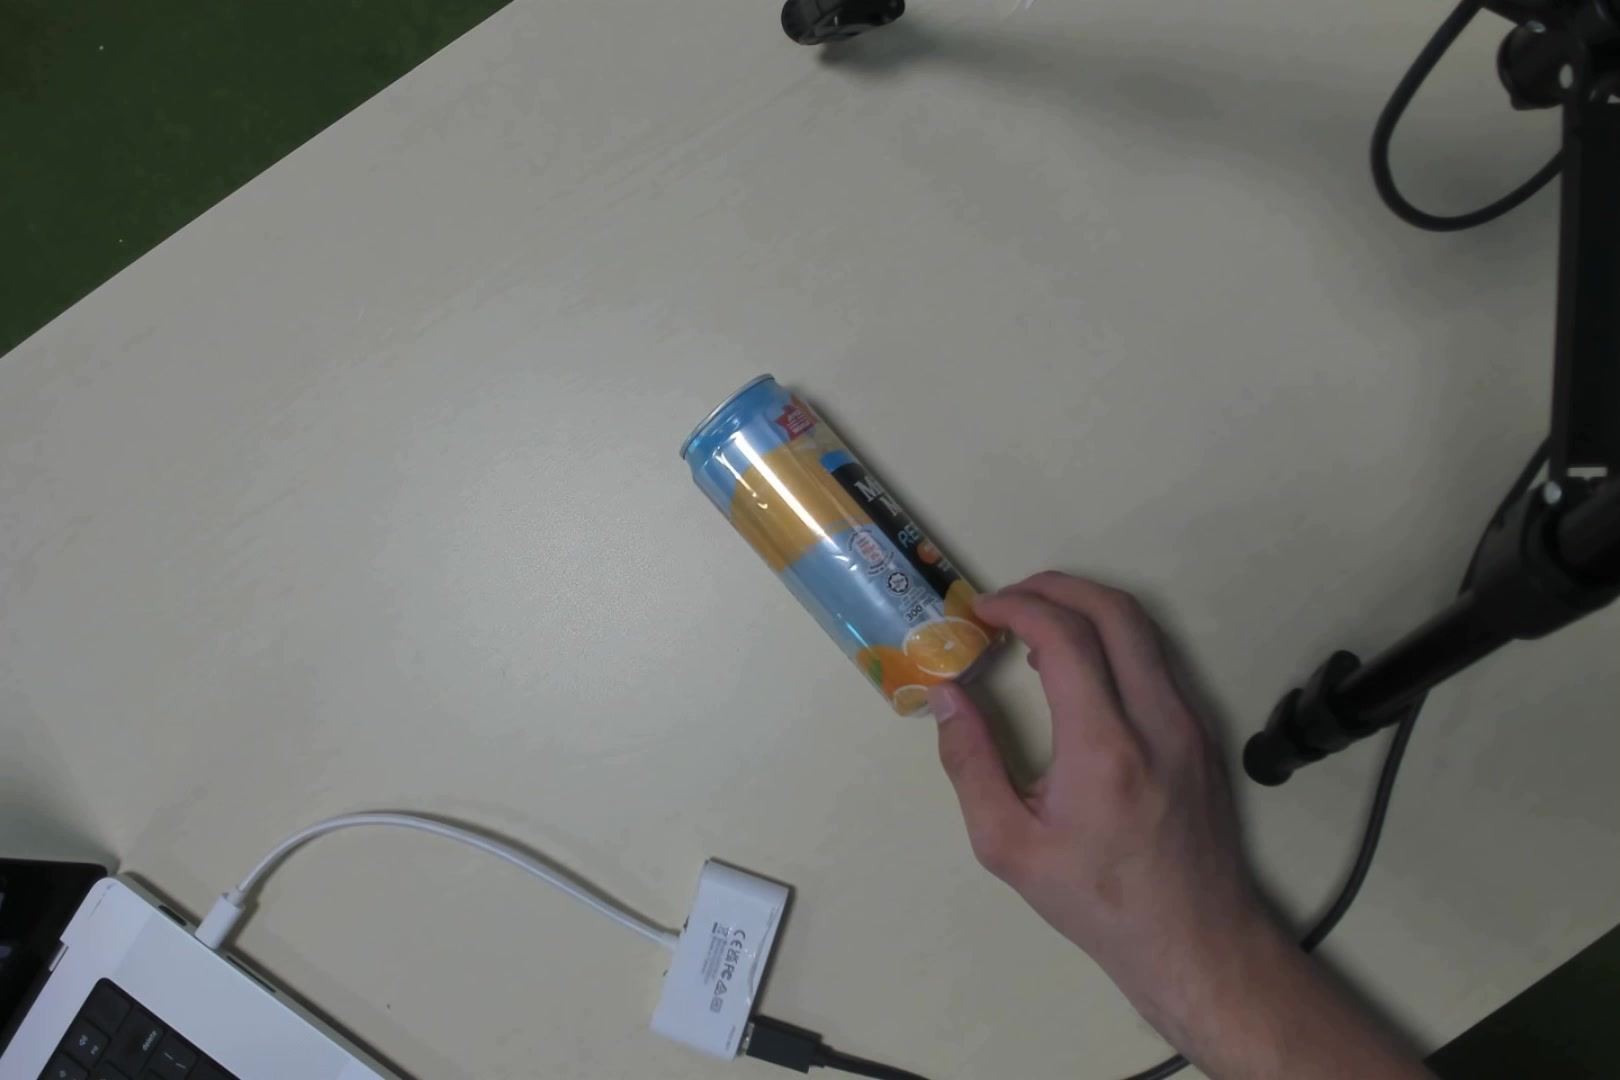SoftDrinks_200-299g_Halal_Healthy: (679, 354, 1008, 706)
